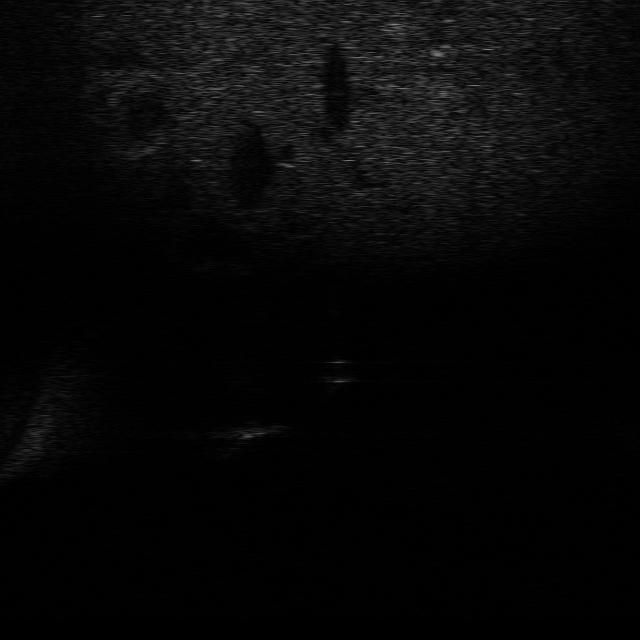ball: (312, 352, 362, 386)
square cage: (212, 414, 294, 449)
